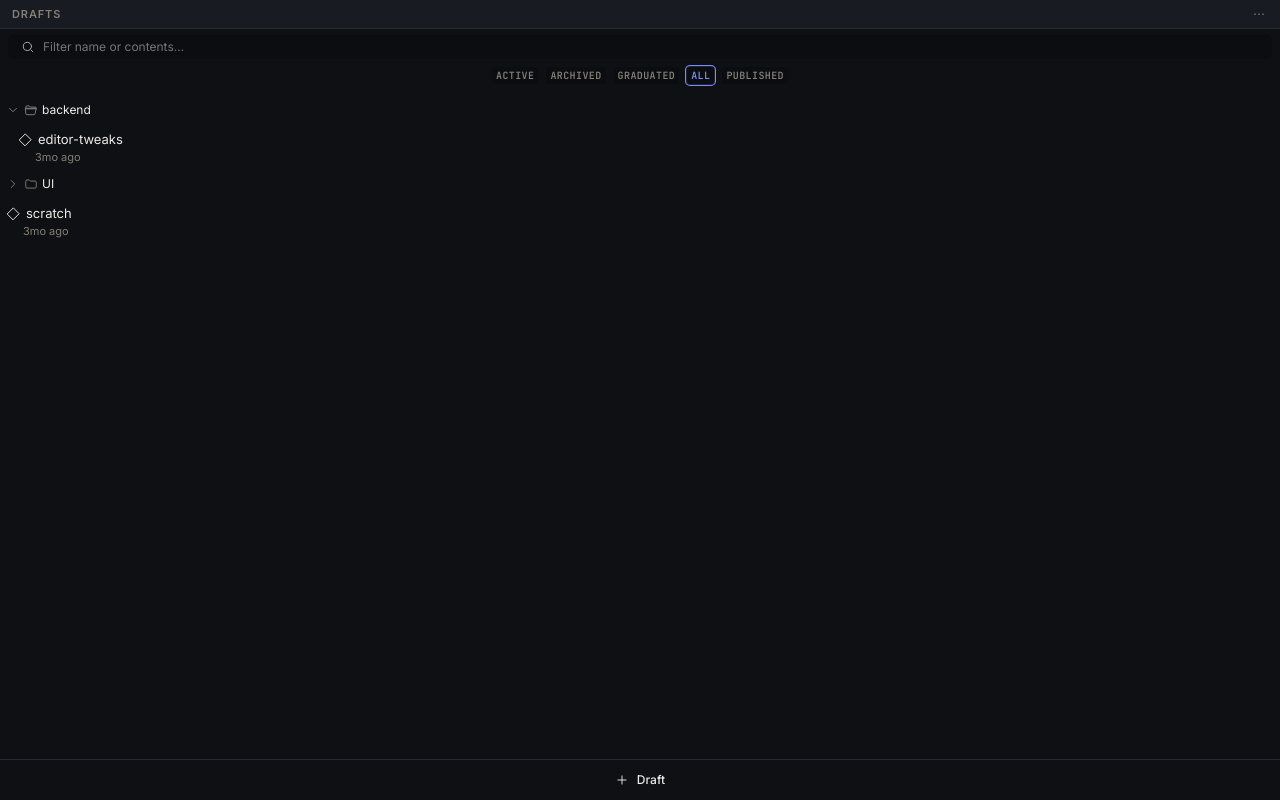
it: Drafts panel (DRP-drafts-panel.md) › DRP-FR-13, DRP-FR-17, DRP-FR-14: a folder whose own name matches renders, even with no admitted draft
Expected: the text "scratch" is shown, left=26, top=204, right=72, bottom=224
In the field named "Filter drafts": (651, 47) left=43, top=38, right=1259, bottom=56, type "backend"
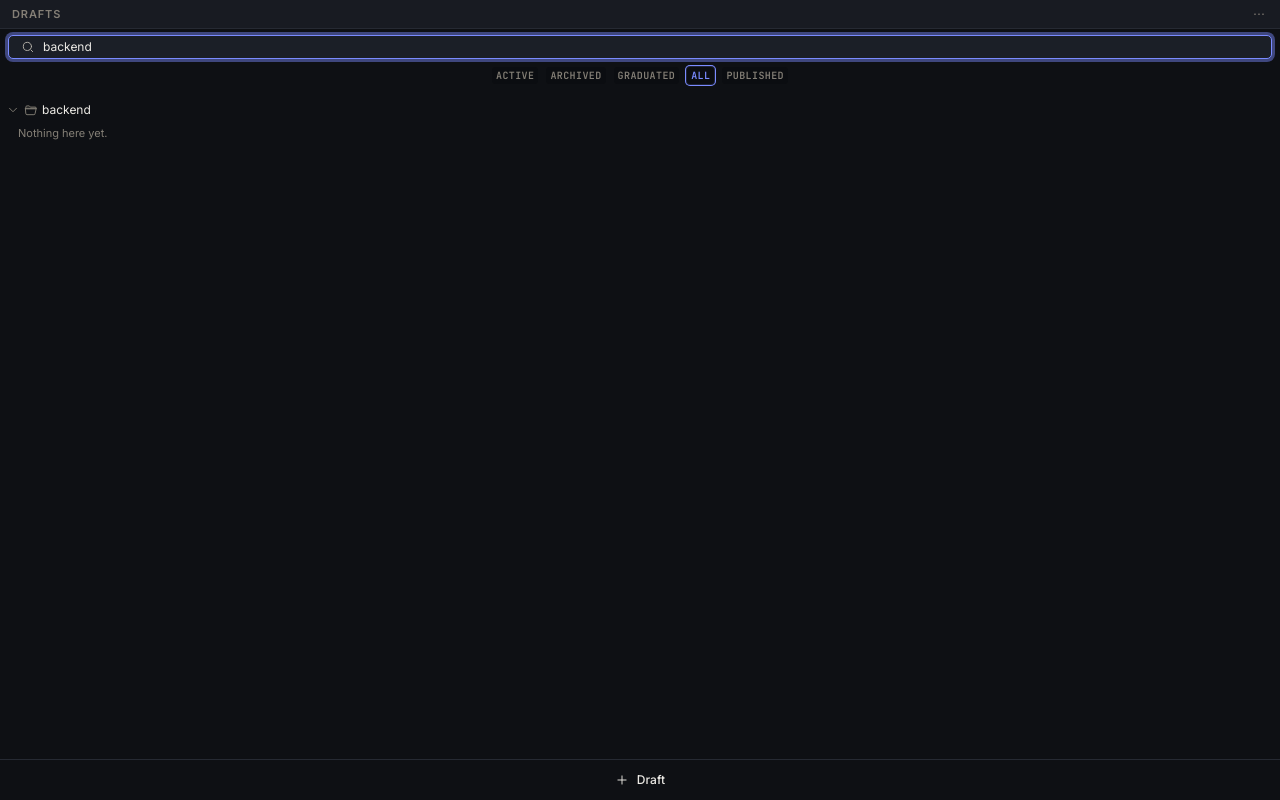
Result: the text "Folder UI" is gone
Result: the text "Nothing here yet." is shown at left=18, top=126, right=108, bottom=140
Result: the text "editor-tweaks" is gone
